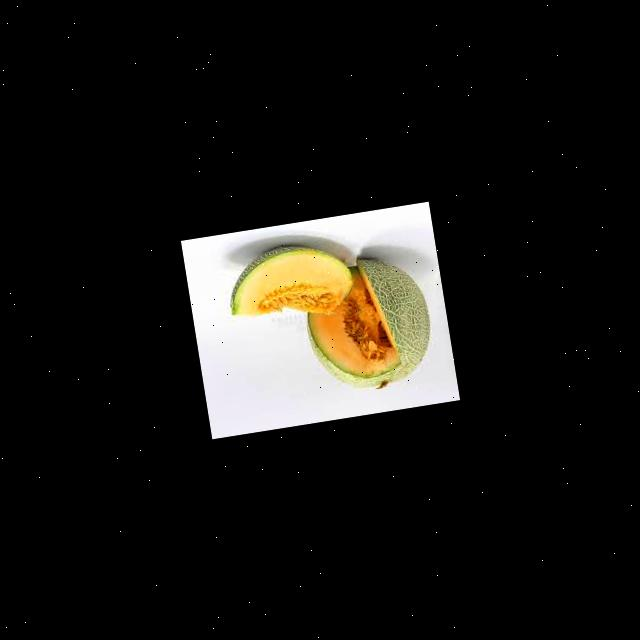Hami Melon: (296, 248, 438, 398), (222, 234, 358, 329)
